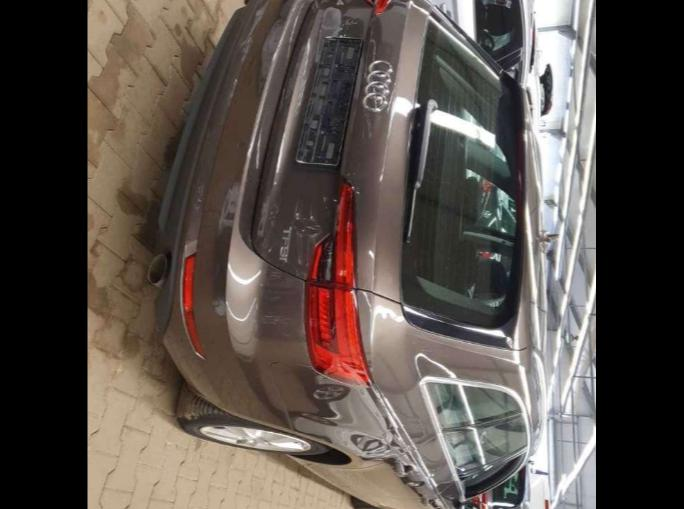Dent: (242, 0, 272, 44)
Missing part: (292, 40, 362, 164)
Paint chip: (240, 32, 254, 66), (226, 78, 238, 110), (194, 182, 204, 214)
